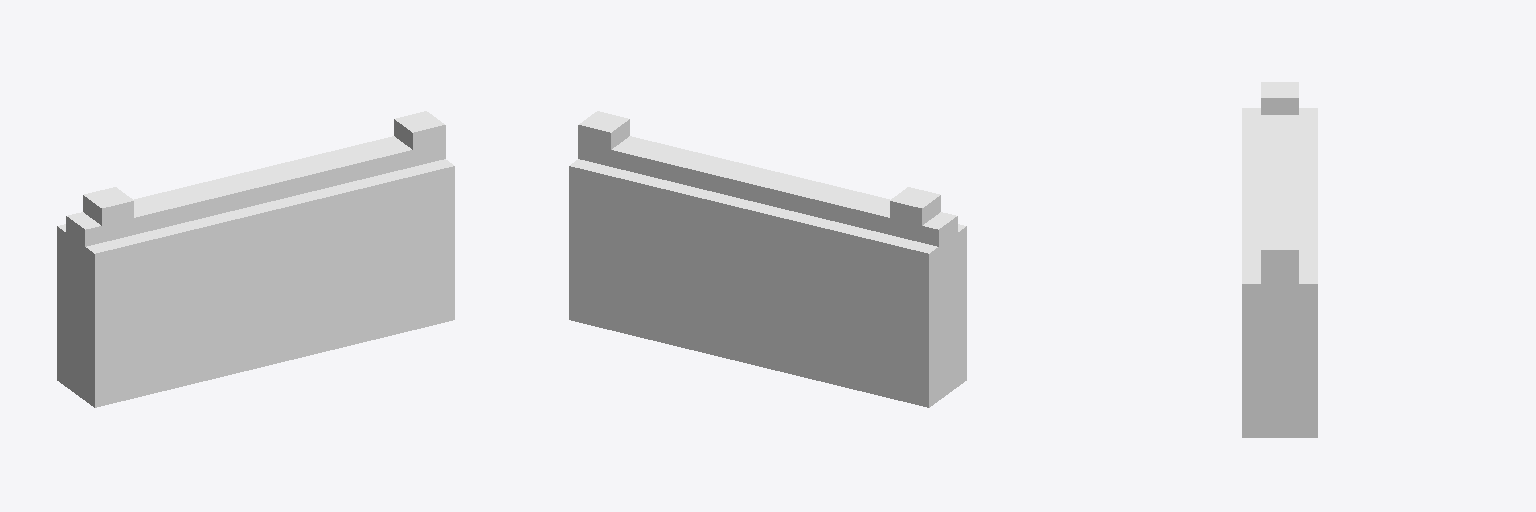
Rendered from DoorBlueRight.obj.
3 renders of one model, left to right at view 1: azimuth 30°, elevation 25°; view 2: azimuth 150°, elevation 25°; view 3: azimuth 270°, elevation 25°, orthographic.
Bounding box in the file's own units: 22 × 11 × 4.